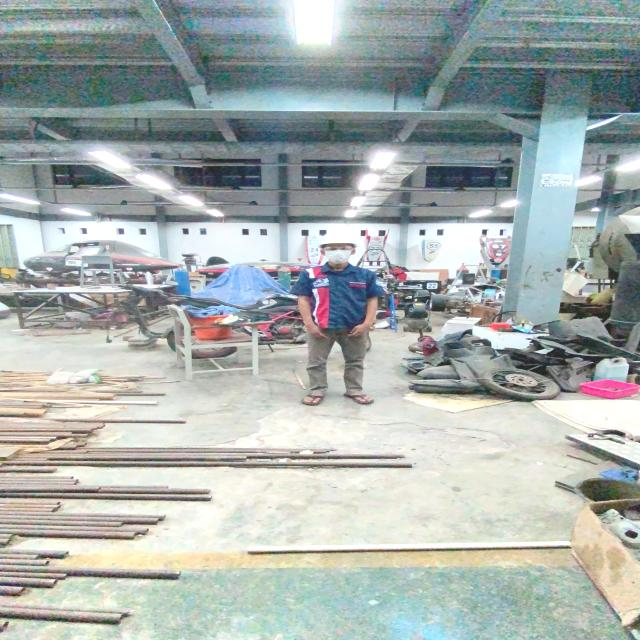face_mask: (322, 245, 354, 264)
glasses: (320, 245, 356, 253)
hand_noglove: (304, 324, 331, 341), (346, 324, 372, 338)
head_helmet: (314, 229, 360, 246)
person: (289, 230, 387, 409)
